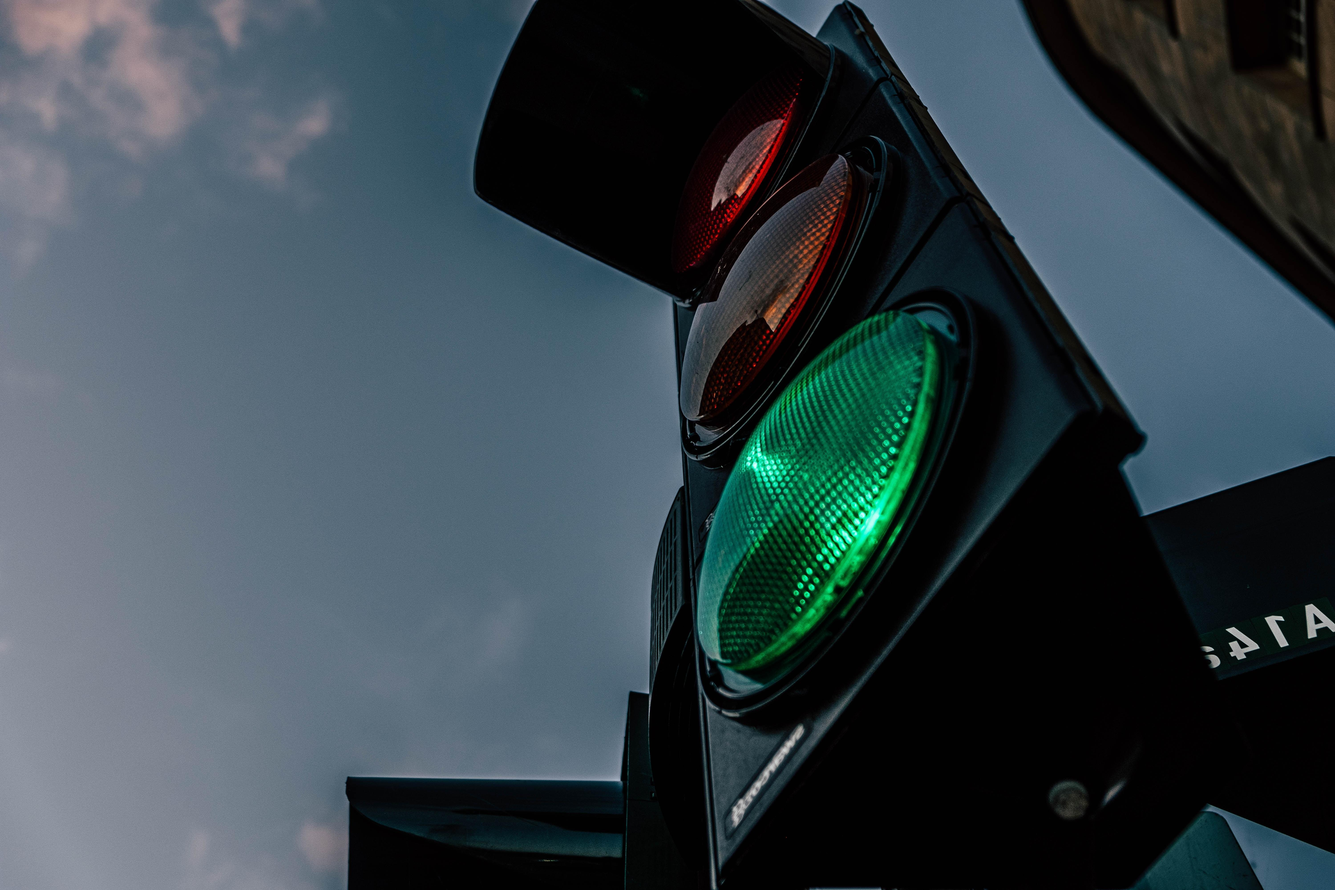green: (436, 0, 1179, 694)
